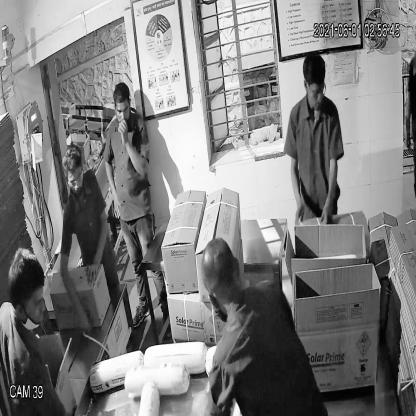goggles: (63, 164, 86, 192)
